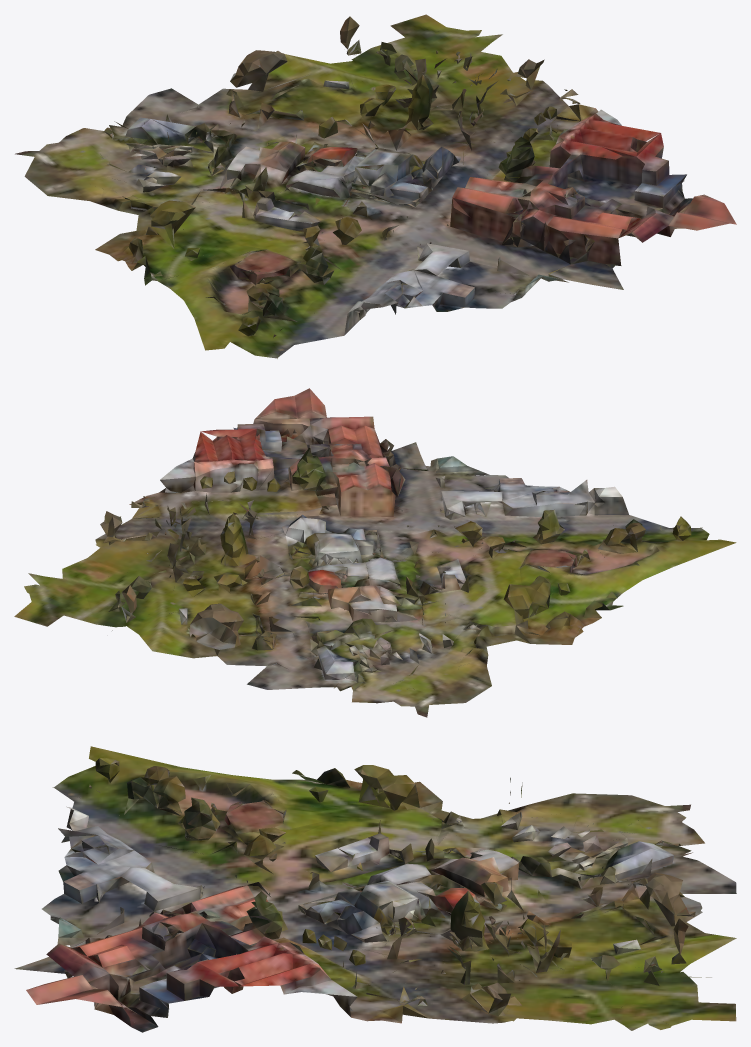
Rendered from Tile_008_007_L16.gltf.
3 renders of one model, top to bottom at view 1: azimuth 30°, elevation 25°; view 2: azimuth 150°, elevation 25°; view 3: azimuth 270°, elevation 25°, orthographic. The views are drawn at different scales.
Parts seen in each view (by area): view 1: Tile_+008_+007_L16; view 2: Tile_+008_+007_L16; view 3: Tile_+008_+007_L16.
Boxes of the visible parts, bbox=[...] form: Tile_+008_+007_L16: bbox=[15, 14, 736, 358]; Tile_+008_+007_L16: bbox=[14, 388, 736, 717]; Tile_+008_+007_L16: bbox=[14, 746, 736, 1032].
Bounding box in the file's own units: 234 × 33.62 × 241.
Materials: 1 (1 with a texture image).
